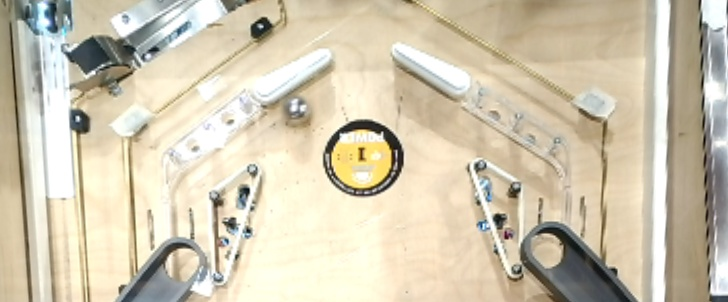ball: (282, 97, 314, 127)
flipper-left: (389, 41, 471, 102)
flipper-right: (252, 44, 334, 106)
